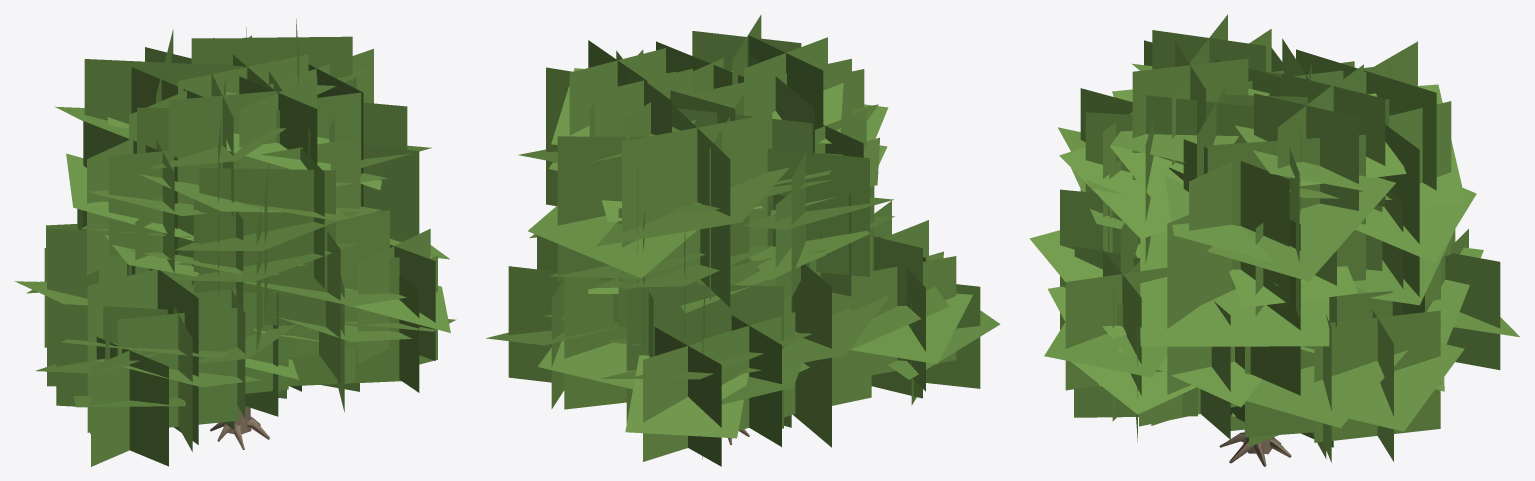
Rendered from pommier_2_f3_loin.glb.
3 renders of one model, left to right at view 1: azimuth 30°, elevation 25°; view 2: azimuth 150°, elevation 25°; view 3: azimuth 270°, elevation 25°, orthographic. The views are drawn at different scales.
Parts seen in each view (by area): view 1: Pommier_T2_f3_Leger_Loin; view 2: Pommier_T2_f3_Leger_Loin; view 3: Pommier_T2_f3_Leger_Loin.
Boxes of the visible parts, left/top/right/bottom form: Pommier_T2_f3_Leger_Loin: left=15, top=19, right=456, bottom=466; Pommier_T2_f3_Leger_Loin: left=486, top=14, right=1000, bottom=466; Pommier_T2_f3_Leger_Loin: left=1029, top=14, right=1519, bottom=466.
Bounding box in the file's own units: 6.78 × 5.99 × 6.74.
